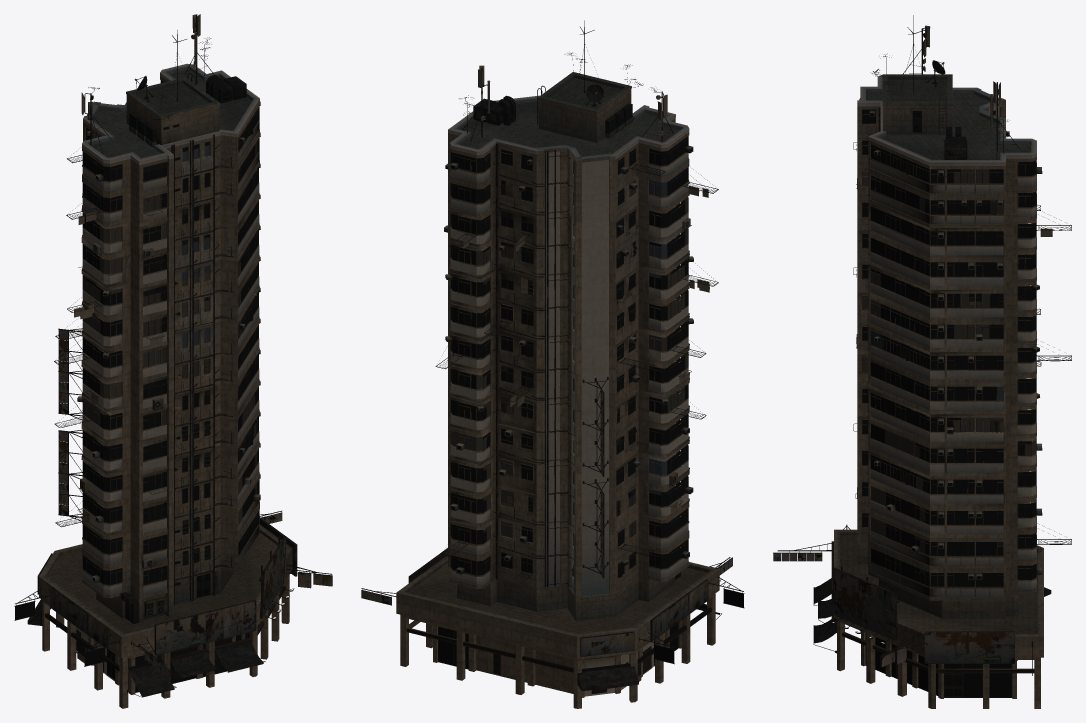
Rendered from tower03.glb.
The picture shows the model from 3 angles, left to right: view 1: azimuth 30°, elevation 25°; view 2: azimuth 150°, elevation 25°; view 3: azimuth 270°, elevation 25°; orthographic projection.
Parts seen in each view (by area): view 1: tower03; view 2: tower03; view 3: tower03.
Boxes of the visible parts, x1,y1,x2,y2 form: tower03: (14, 14, 332, 708); tower03: (361, 20, 744, 708); tower03: (773, 15, 1071, 708).
Bounding box in the file's own units: 28.93 × 60.42 × 25.75.
Materials: 12 (9 with a texture image).
